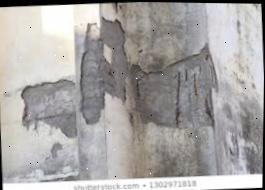exposed_rebar: (175, 71, 179, 127), (192, 73, 197, 95), (184, 69, 187, 80)
spalling: (79, 21, 215, 128), (20, 79, 76, 136)
